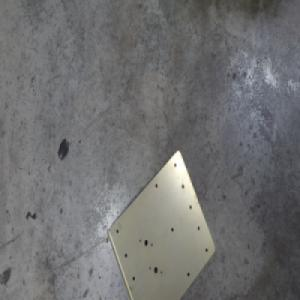MetalSheet: (106, 147, 216, 300)
